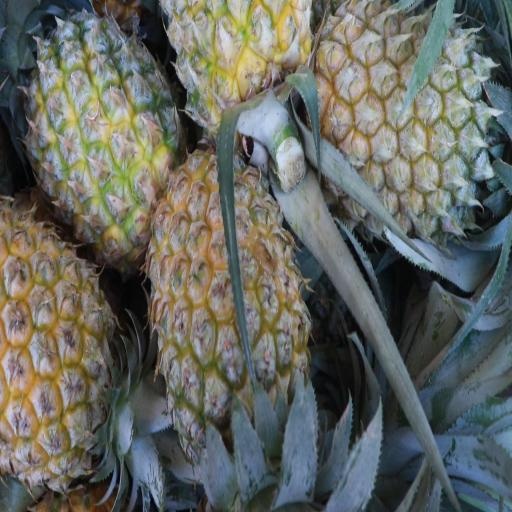------------------------------: (151, 148, 301, 446)
Pineapple - v8 v1: (26, 16, 173, 249), (0, 216, 127, 483), (168, 0, 306, 144)
